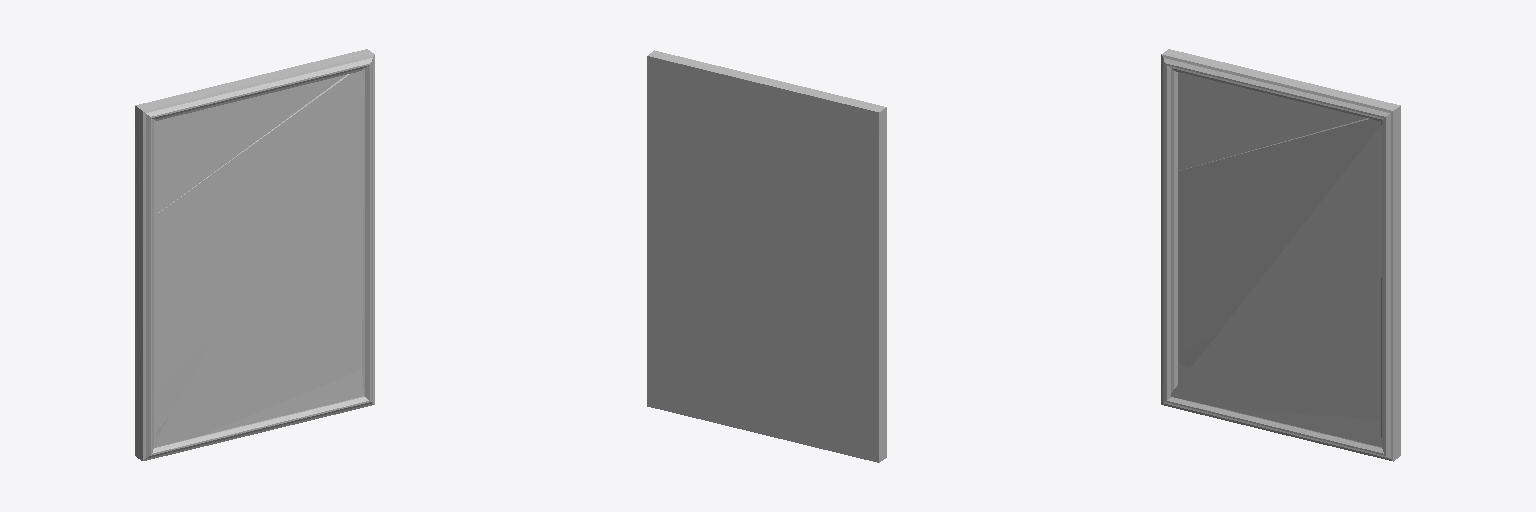
Rendered from nazi_poster_with_frame.obj.
The picture shows the model from 3 angles: view 1: azimuth 30°, elevation 25°; view 2: azimuth 150°, elevation 25°; view 3: azimuth 330°, elevation 25°; orthographic projection.
Parts seen in each view (by area): view 1: Model001_Model001_3_championpianosdiffuseshader_1.0_0.0_0.0, Model001_Model001_2_adframediffshader_1.0_0.0_0.0; view 2: Model001_Model001_3_championpianosdiffuseshader_1.0_0.0_0.0, Model001_Model001_2_adframediffshader_1.0_0.0_0.0; view 3: Model001_Model001_3_championpianosdiffuseshader_1.0_0.0_0.0, Model001_Model001_2_adframediffshader_1.0_0.0_0.0.
Boxes of the visible parts, <box> form: Model001_Model001_3_championpianosdiffuseshader_1.0_0.0_0.0: <box>154,56,374,447</box>; Model001_Model001_2_adframediffshader_1.0_0.0_0.0: <box>135,49,374,460</box>; Model001_Model001_3_championpianosdiffuseshader_1.0_0.0_0.0: <box>647,56,878,462</box>; Model001_Model001_2_adframediffshader_1.0_0.0_0.0: <box>647,50,886,462</box>; Model001_Model001_3_championpianosdiffuseshader_1.0_0.0_0.0: <box>1171,72,1400,461</box>; Model001_Model001_2_adframediffshader_1.0_0.0_0.0: <box>1161,49,1400,460</box>.
Size of the model in its own units: 0.898 by 1.3 by 0.0639.